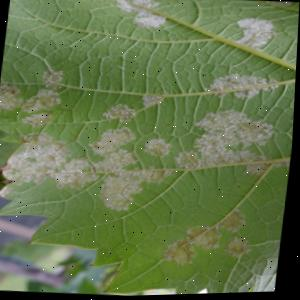Folha: (0, 0, 300, 300)
Fungo: (0, 57, 289, 225), (0, 117, 178, 218), (189, 106, 280, 180), (2, 129, 77, 189), (87, 0, 171, 31), (205, 71, 282, 104), (50, 154, 104, 192), (99, 173, 148, 214), (89, 125, 140, 159), (233, 16, 279, 52), (94, 148, 143, 176), (23, 87, 65, 115), (235, 150, 274, 180), (186, 224, 227, 252), (164, 240, 202, 268), (0, 82, 28, 113), (103, 103, 141, 125), (175, 149, 209, 171), (223, 208, 250, 235), (144, 137, 176, 159), (132, 12, 168, 31), (227, 236, 256, 259), (41, 67, 67, 90), (22, 111, 55, 128), (141, 94, 165, 109), (266, 1, 293, 9)
